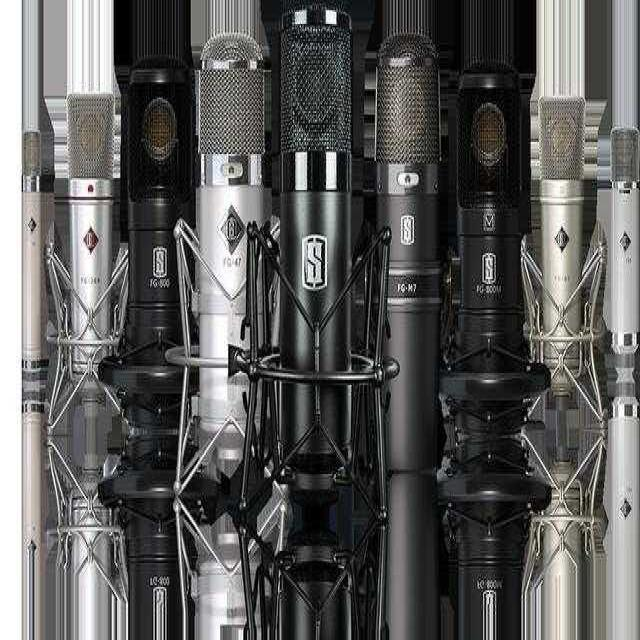microphone: (274, 8, 354, 488), (374, 8, 448, 478), (452, 8, 532, 374), (194, 27, 269, 417), (121, 6, 194, 370), (66, 85, 119, 374), (536, 96, 590, 372), (376, 33, 442, 170), (609, 129, 639, 349), (610, 126, 639, 186), (23, 130, 41, 184)
